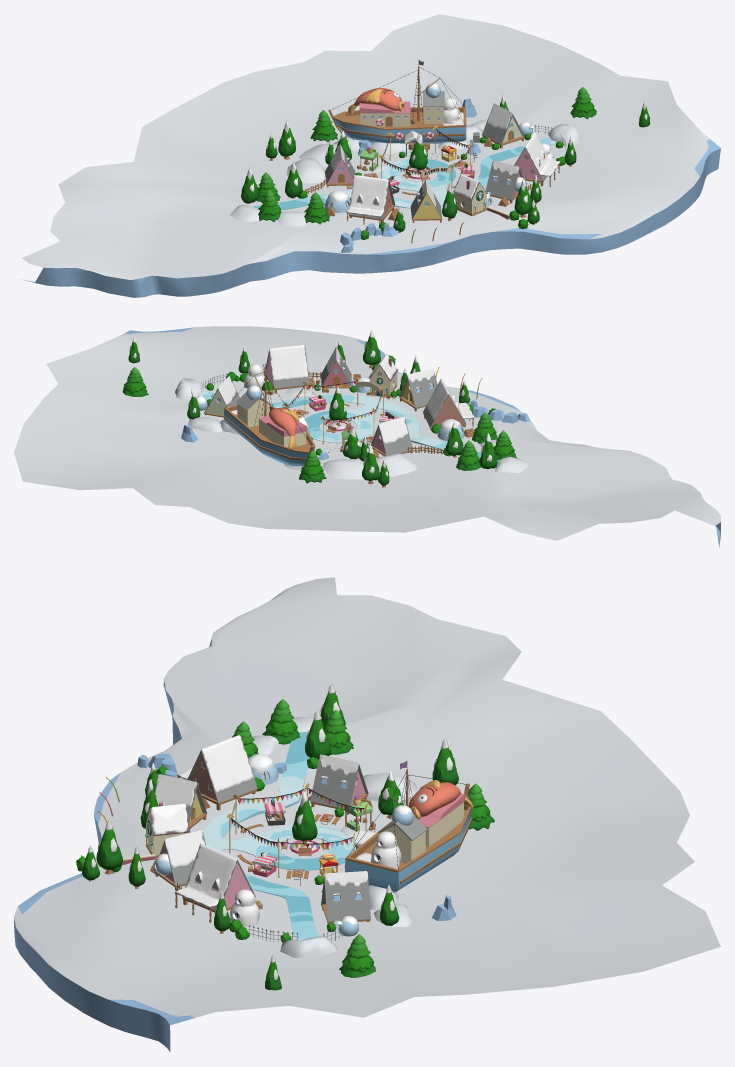
Rendered from Individual_SalmonSettlement_01.fbx.
3 views of the same model, one above another, from view 1: azimuth 30°, elevation 25°; view 2: azimuth 150°, elevation 25°; view 3: azimuth 270°, elevation 25° (orthographic). The views are drawn at different scales.
Parts seen in each view (by area): view 1: pasted__pasted__Berg, pasted__Ship, pasted__Object_Road1, pasted__Building_TriangleHouse, pasted__Building_TriangleHouse5, pasted__Building_TriangleHouse6, pasted__Building_TriangleHouse3, pasted__Building_CoffeeShop, pasted__Building_TriangleHouse2, pasted__Building_TriangleHouse4, pasted__Fish, pasted__SnowPatch11 (+6 smaller); view 2: pasted__pasted__Berg, pasted__Ship, pasted__Object_Road1, pasted__Building_TriangleHouse5, pasted__Building_TriangleHouse, pasted__Building_TriangleHouse4, pasted__Building_TriangleHouse2, pasted__Building_TriangleHouse3, pasted__Building_CoffeeShop, pasted__Building_TriangleHouse6, pasted__SnowPatch10, pasted__Fish (+16 smaller); view 3: pasted__pasted__Berg, pasted__Object_Road1, pasted__Ship, pasted__Building_TriangleHouse, pasted__Building_TriangleHouse5, pasted__Building_TriangleHouse4, pasted__Building_TriangleHouse6, pasted__Building_CoffeeShop, pasted__Building_TriangleHouse3, pasted__Building_TriangleHouse2, pasted__Fish, pasted__pasted__Foliage_BigFir5 (+11 smaller).
Boxes of the visible parts, x1,y1,x2,y2 form: pasted__pasted__Berg: [19, 14, 720, 297]; pasted__Ship: [328, 60, 466, 143]; pasted__Object_Road1: [253, 137, 556, 210]; pasted__Building_TriangleHouse: [346, 175, 395, 224]; pasted__Building_TriangleHouse5: [514, 132, 560, 186]; pasted__Building_TriangleHouse6: [482, 103, 524, 148]; pasted__Building_TriangleHouse3: [485, 160, 522, 203]; pasted__Building_CoffeeShop: [453, 174, 487, 216]; pasted__Building_TriangleHouse2: [410, 179, 442, 222]; pasted__Building_TriangleHouse4: [325, 144, 355, 187]; pasted__Fish: [348, 88, 404, 115]; pasted__SnowPatch11: [286, 157, 325, 183]; pasted__pasted__Berg: [14, 326, 720, 547]; pasted__Ship: [224, 363, 315, 466]; pasted__Object_Road1: [196, 391, 499, 467]; pasted__Building_TriangleHouse5: [263, 345, 309, 393]; pasted__Building_TriangleHouse: [423, 378, 474, 429]; pasted__Building_TriangleHouse4: [371, 417, 412, 456]; pasted__Building_TriangleHouse2: [399, 368, 437, 411]; pasted__Building_TriangleHouse3: [321, 347, 351, 390]; pasted__Building_CoffeeShop: [368, 354, 398, 396]; pasted__Building_TriangleHouse6: [204, 376, 239, 417]; pasted__SnowPatch10: [322, 459, 363, 479]; pasted__Fish: [269, 406, 299, 449]; pasted__pasted__Berg: [14, 577, 720, 1051]; pasted__Object_Road1: [203, 731, 355, 940]; pasted__Ship: [345, 760, 471, 892]; pasted__Building_TriangleHouse: [177, 735, 257, 810]; pasted__Building_TriangleHouse5: [174, 843, 255, 922]; pasted__Building_TriangleHouse4: [310, 754, 368, 814]; pasted__Building_TriangleHouse6: [321, 871, 370, 924]; pasted__Building_CoffeeShop: [144, 803, 190, 858]; pasted__Building_TriangleHouse3: [154, 830, 206, 890]; pasted__Building_TriangleHouse2: [154, 774, 207, 828]; pasted__Fish: [408, 780, 473, 819]; pasted__pasted__Foliage_BigFir5: [339, 934, 375, 977].
Size of the model in its own units: 12406 by 1827 by 8103.
